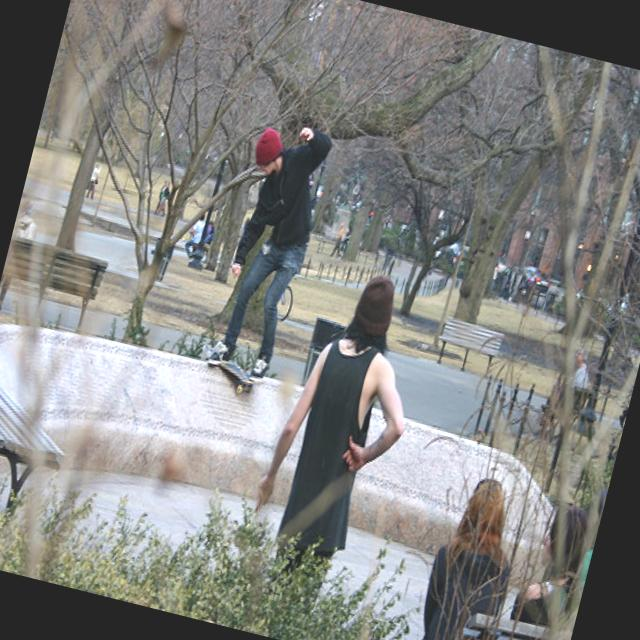Vehicle: (427, 238, 471, 284), (491, 262, 533, 302), (521, 266, 552, 293), (236, 213, 252, 248), (494, 255, 514, 272)
